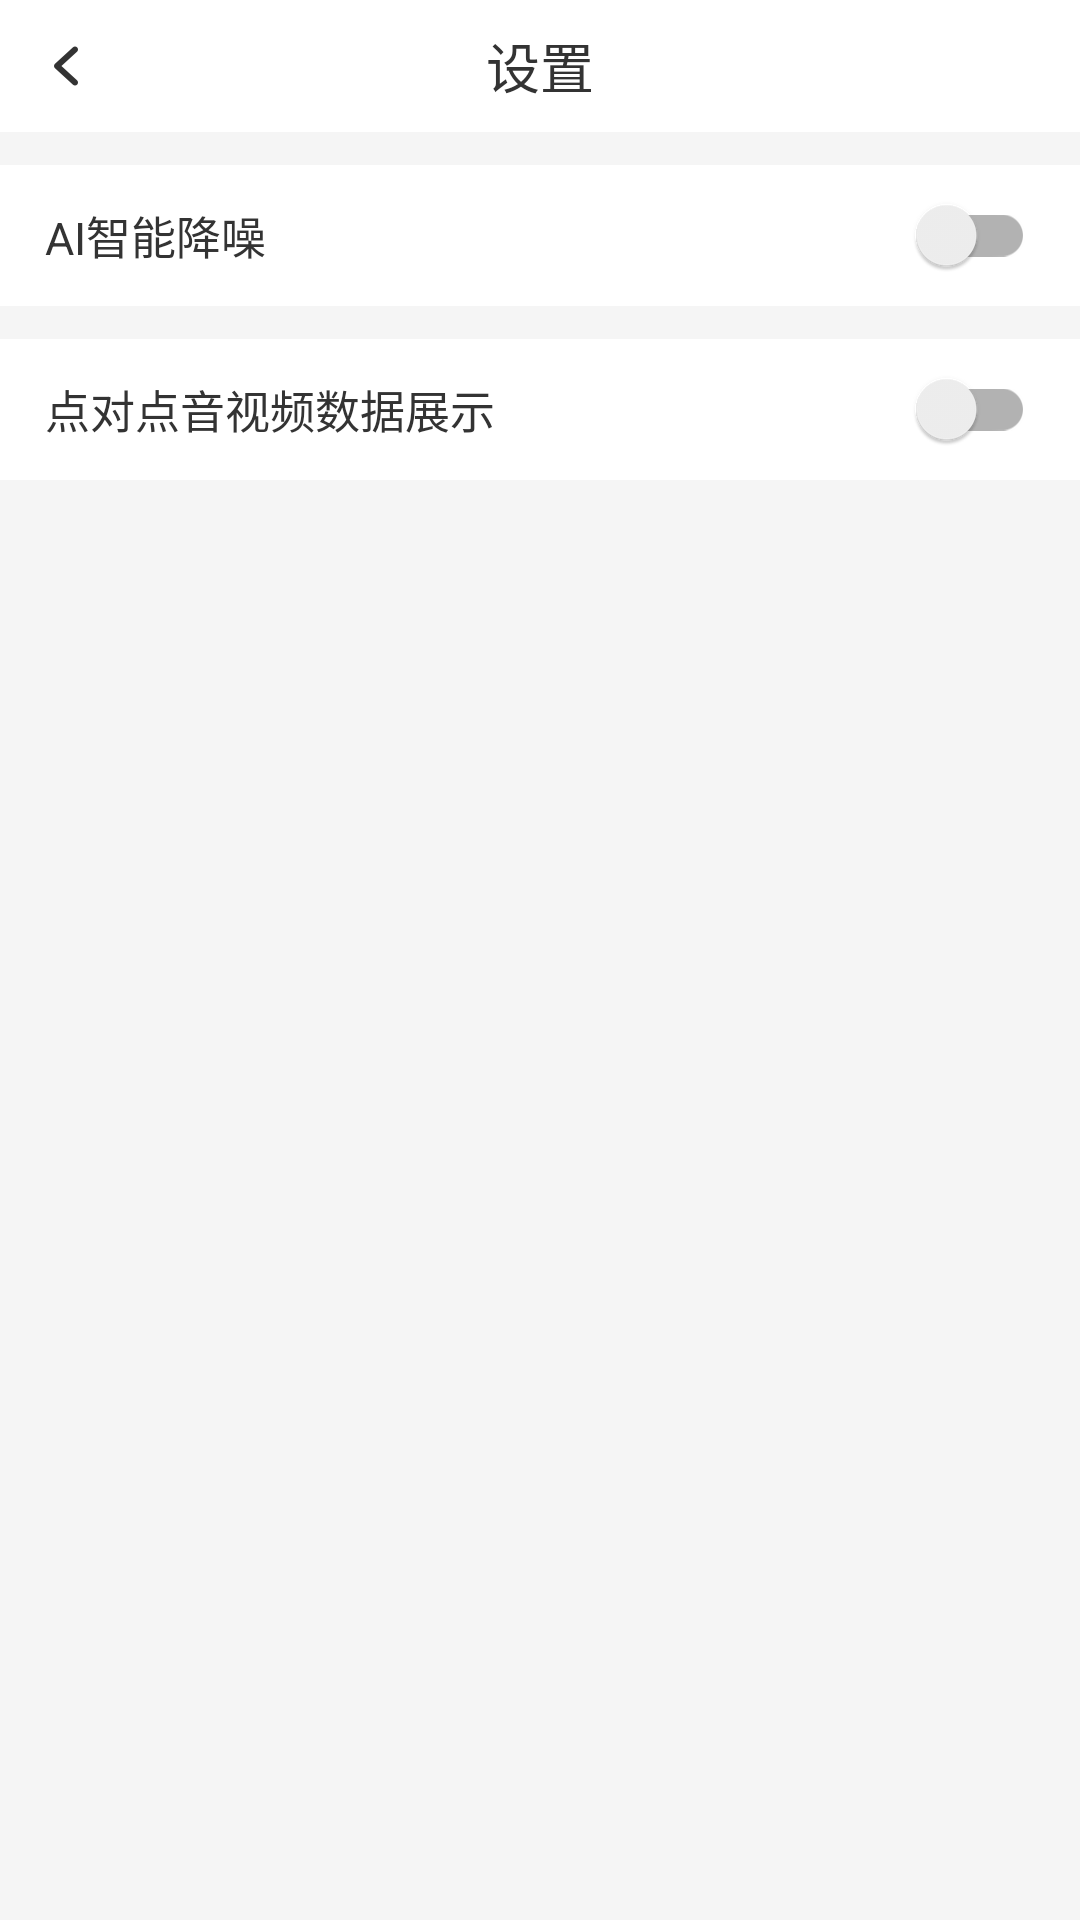

Point at icon controls on the screen. Image size 1080 × 1920, points as [x,y].
back: [66,66]
